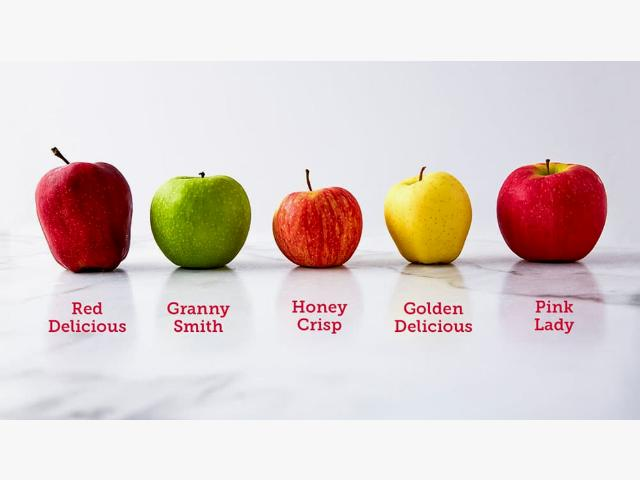green apple: (151, 176, 252, 270)
red apple: (496, 162, 606, 267), (274, 187, 363, 268)
